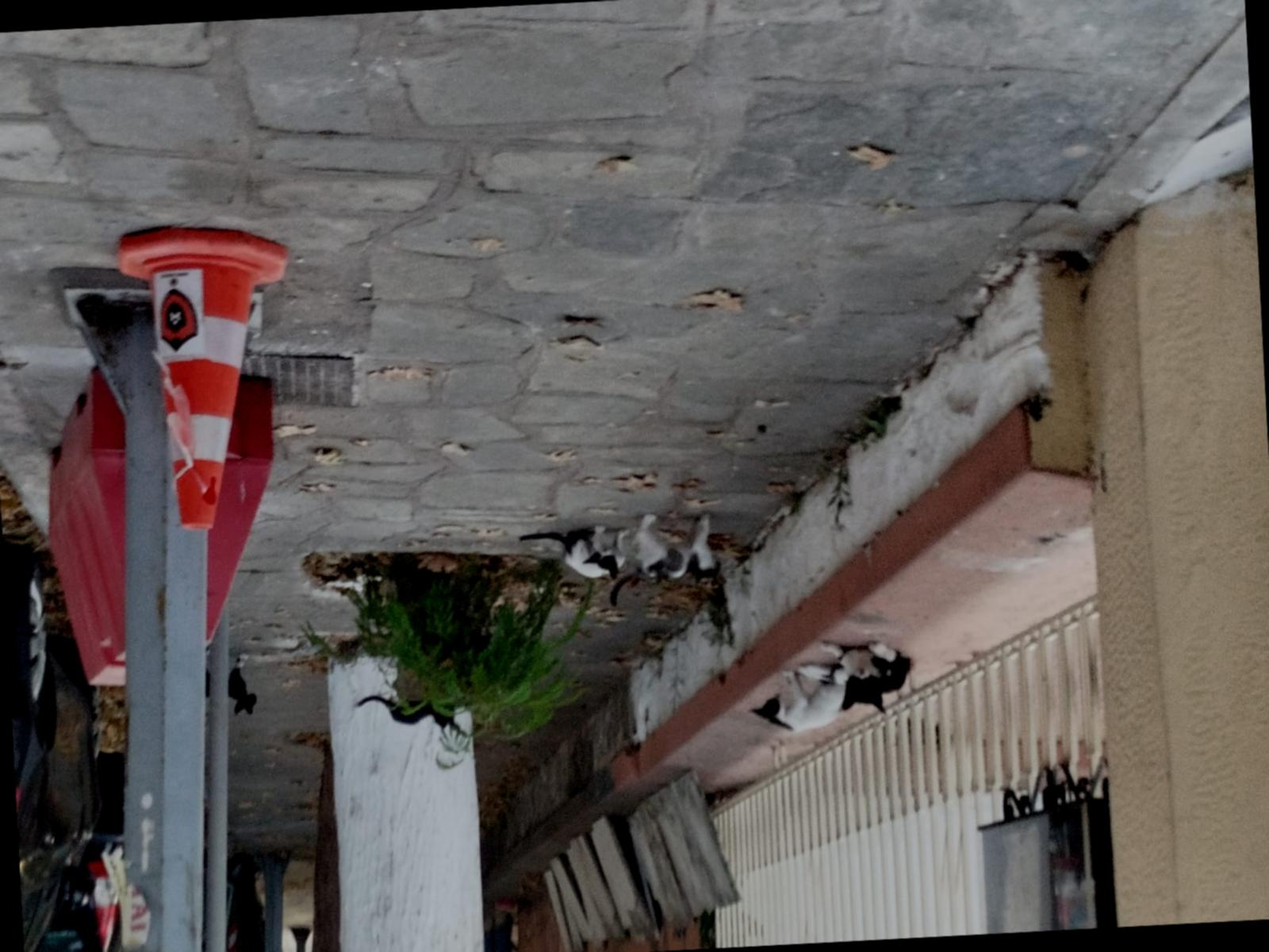macka: (604, 509, 722, 607), (793, 638, 916, 720), (747, 666, 848, 734), (518, 523, 629, 583), (355, 692, 457, 734), (226, 655, 259, 717)
